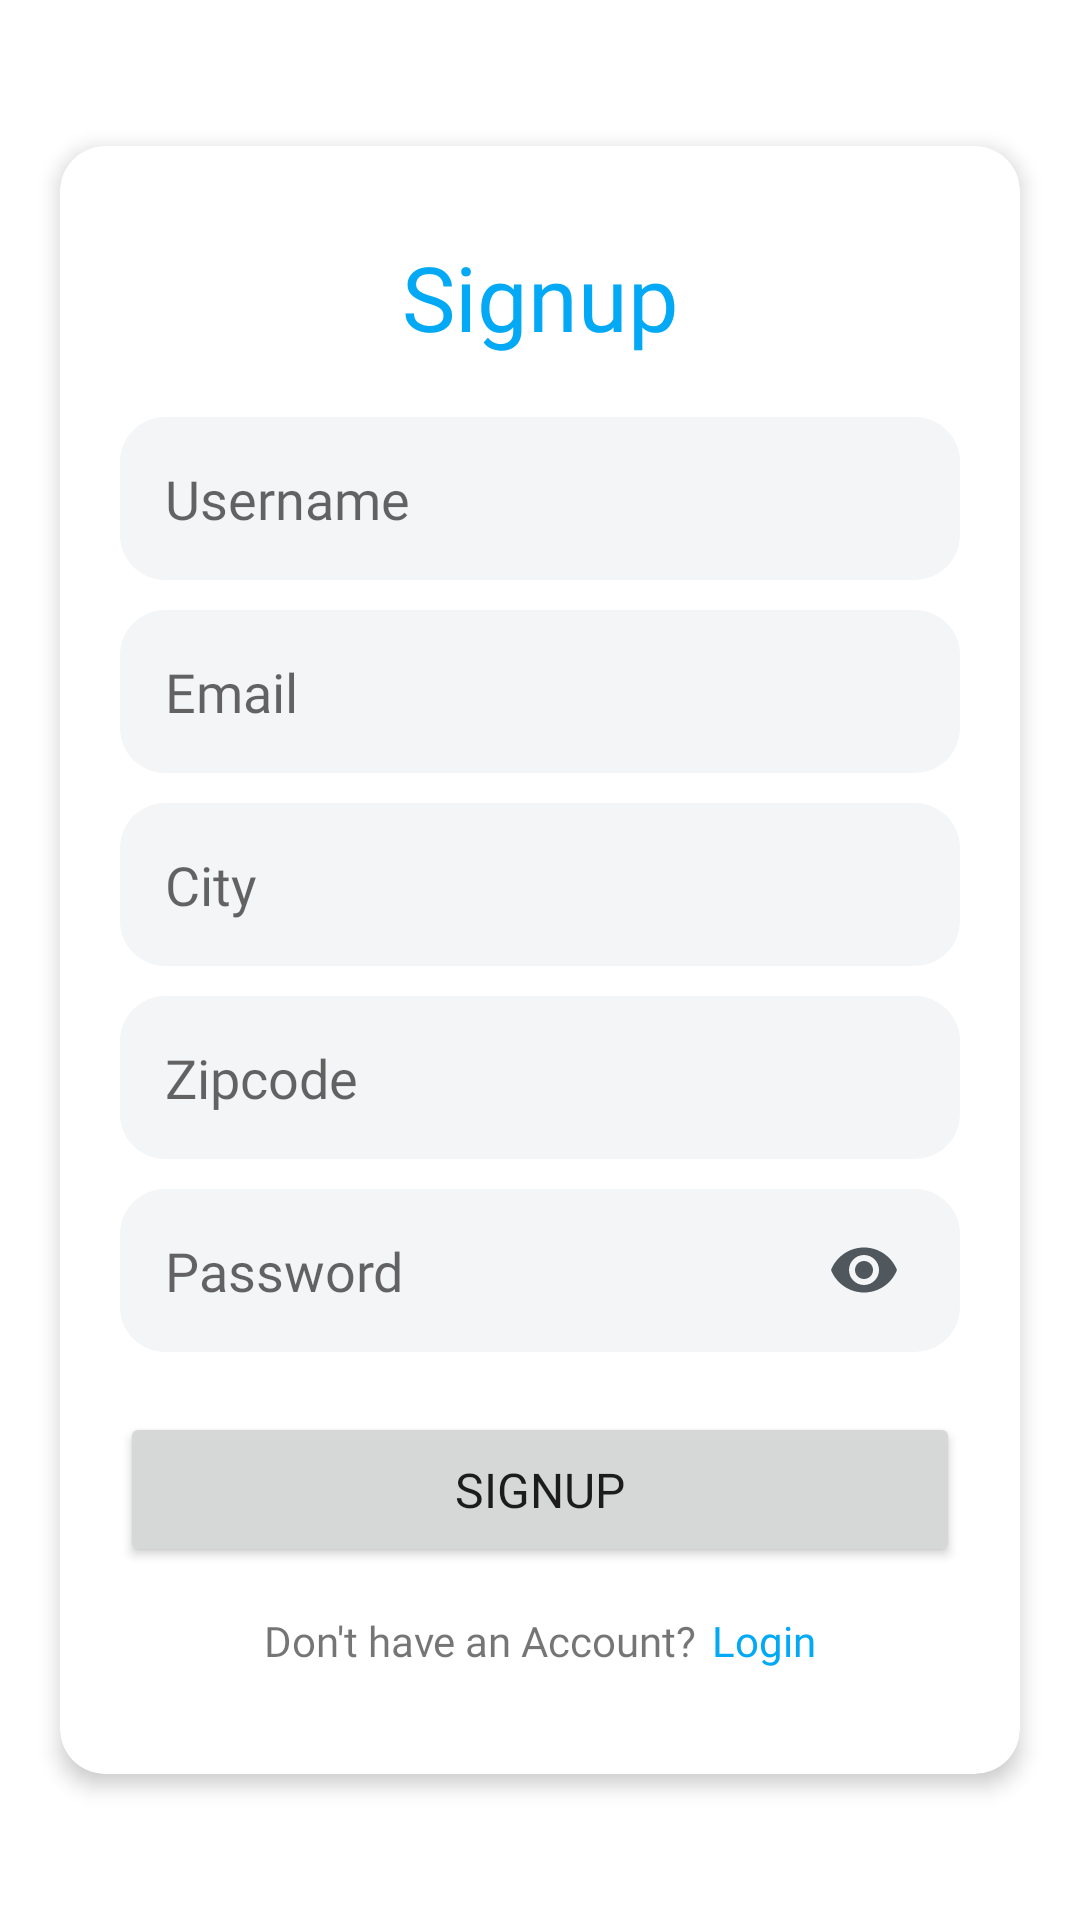

Named icons in this screenshot (1080 × 1920) and their bounding boxes, bbox=(x1, y1, x2, y2):
show: bbox=(831, 1247, 897, 1293)
